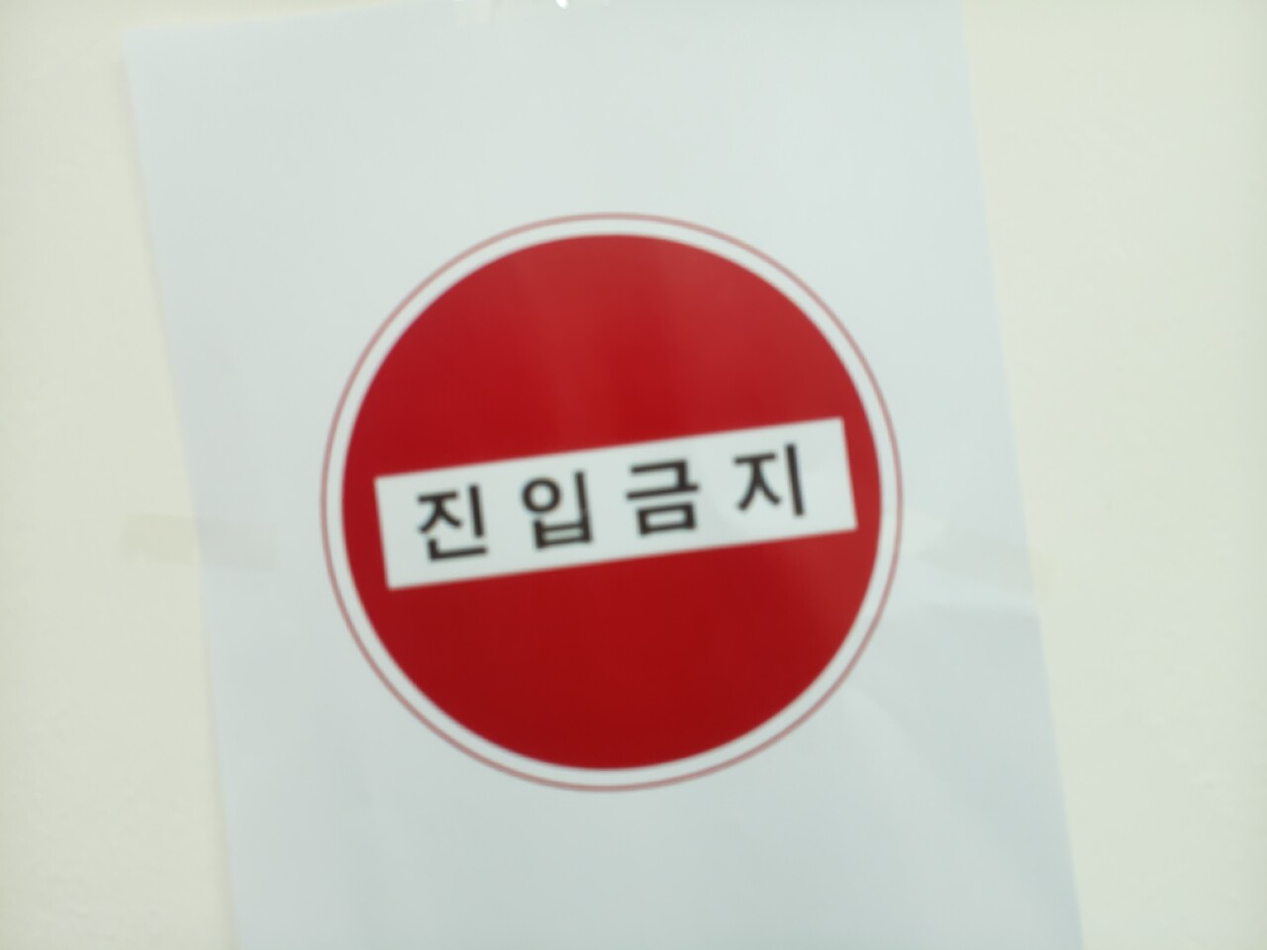do_not_enter: (327, 221, 897, 784)
